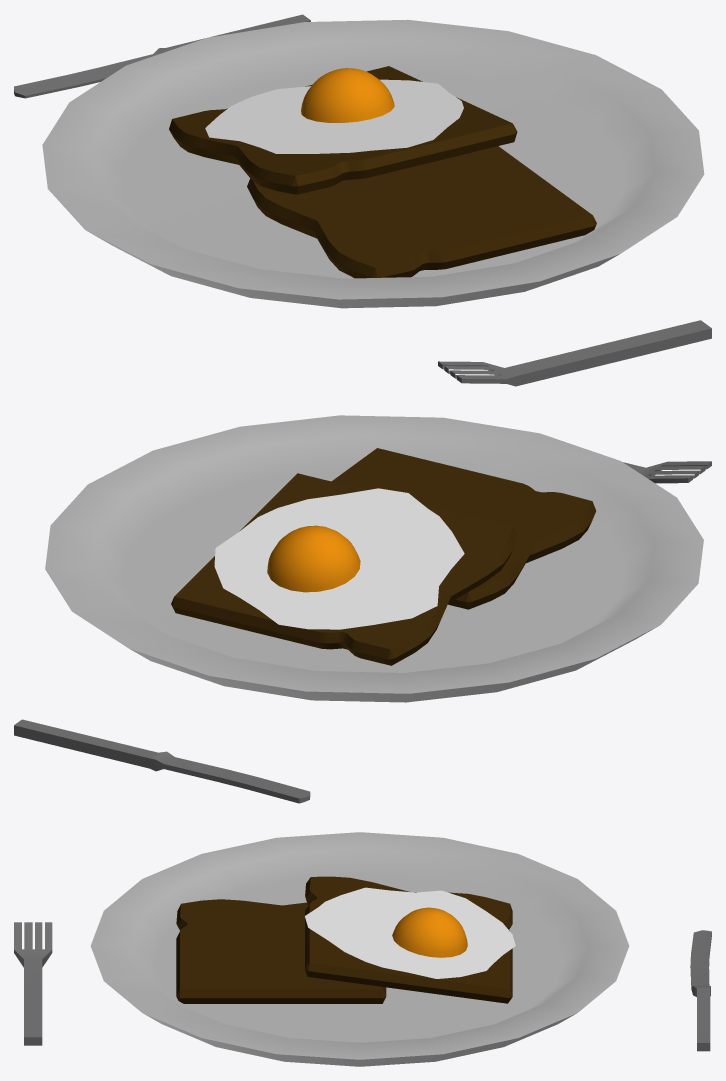
File: Breakfast.fbx
The picture shows the model from 3 angles, top to bottom: view 1: azimuth 30°, elevation 25°; view 2: azimuth 150°, elevation 25°; view 3: azimuth 270°, elevation 25°; orthographic projection. The views are drawn at different scales.
Visible parts, largest first — view 1: pCube5; view 2: pCube5; view 3: pCube5.
Boxes of the visible parts, x1,y1,x2,y2 form: pCube5: (14, 14, 711, 386); pCube5: (14, 415, 711, 803); pCube5: (14, 832, 711, 1066).
Bounding box in the file's own units: 2.2 × 0.4058 × 2.85.
